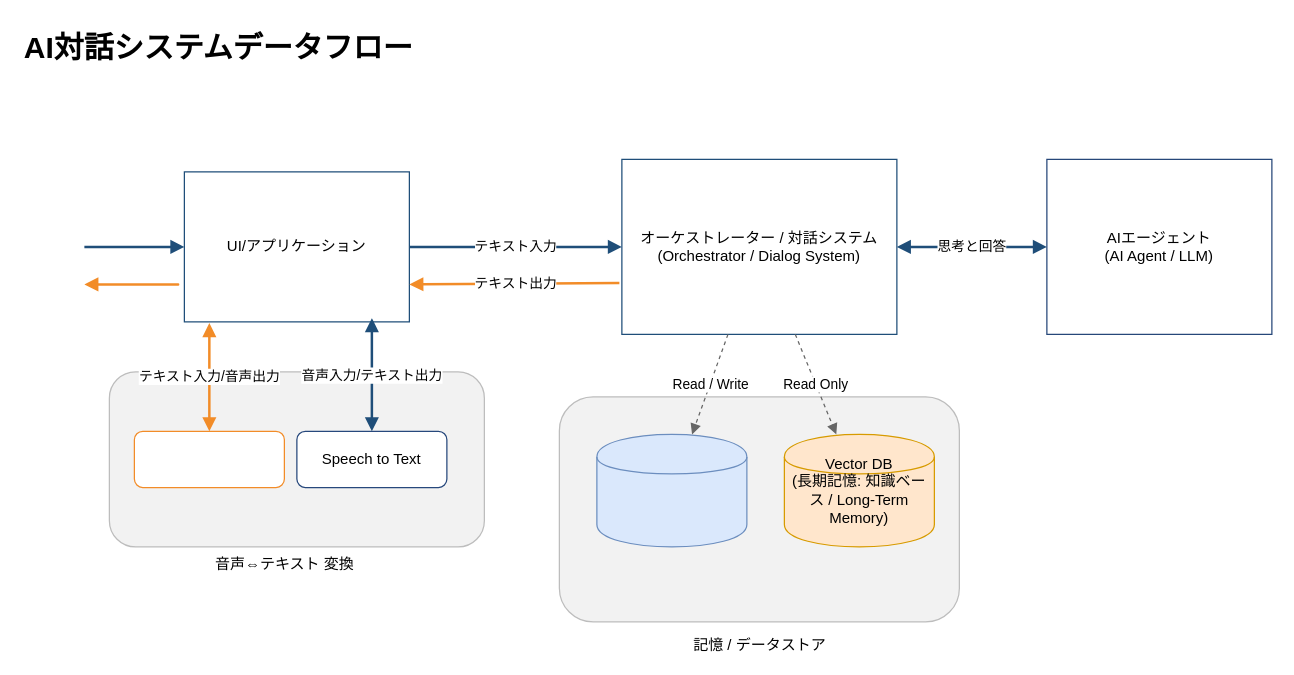
Image size: 1294x675. Some labels were removed from this diagram. Here are the shapes that lost their labels. From the top down, the box of each, then its label:
(133, 430, 284, 488): Text to Speech
(596, 433, 747, 547): RDB (短期記憶: 会話履歴 / Short-Term Memory)
